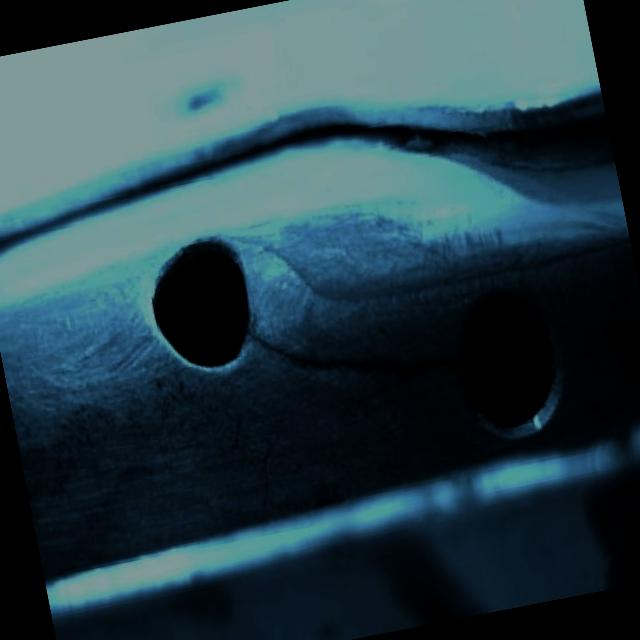crack: (298, 346, 385, 382), (248, 320, 300, 370), (384, 360, 422, 382), (418, 356, 456, 378)
